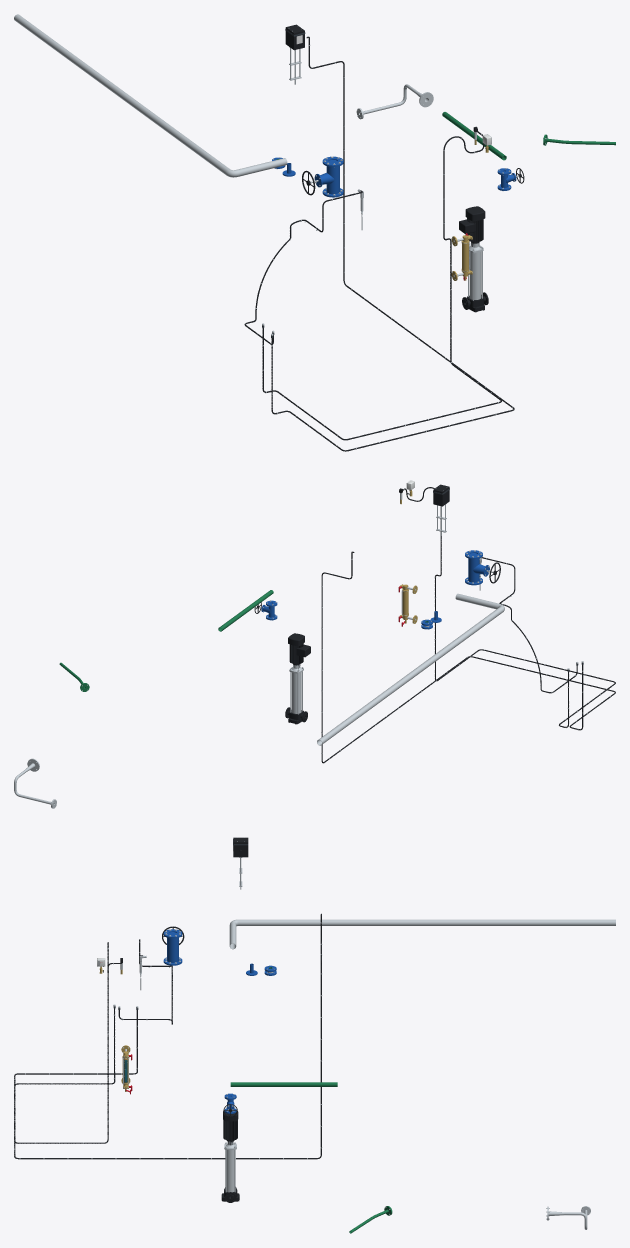
The model's file is s4000-4-B-4NVggT.glb.
3 views of the same model, one above another, from view 1: azimuth 30°, elevation 25°; view 2: azimuth 150°, elevation 25°; view 3: azimuth 270°, elevation 25° (orthographic). The views are drawn at different scales.
Parts seen in each view (by area): view 1: safety_vent_1 / steel, mod_eco_drive_cable / black, wiring_pressure_transmitter / black, steam_manual / blue, pump_1 CAD solid 15; view 2: safety_vent_1 / steel, mod_eco_drive_cable / black, wiring_pressure_transmitter / black, steam_manual / blue, pump_1 CAD solid 15; view 3: safety_vent_1 / steel, mod_eco_drive_cable / black, wiring_pressure_transmitter / black, pump_delivery / green.
Boxes of the visible parts, bbox=[...] form: safety_vent_1 / steel: bbox=[14, 14, 287, 177]; mod_eco_drive_cable / black: bbox=[271, 36, 514, 451]; wiring_pressure_transmitter / black: bbox=[262, 129, 501, 440]; steam_manual / blue: bbox=[314, 156, 343, 197]; pump_1 CAD solid 15: bbox=[459, 206, 485, 242]; safety_vent_1 / steel: bbox=[317, 593, 504, 745]; mod_eco_drive_cable / black: bbox=[321, 551, 615, 763]; wiring_pressure_transmitter / black: bbox=[399, 487, 615, 727]; steam_manual / blue: bbox=[465, 550, 489, 585]; pump_1 CAD solid 15: bbox=[288, 633, 310, 664]; safety_vent_1 / steel: bbox=[229, 919, 615, 949]; mod_eco_drive_cable / black: bbox=[14, 913, 321, 1159]; wiring_pressure_transmitter / black: bbox=[14, 942, 137, 1143]; pump_delivery / green: bbox=[230, 1082, 337, 1086].
Size of the model in its own units: 5.75 by 3.65 by 7.03.
